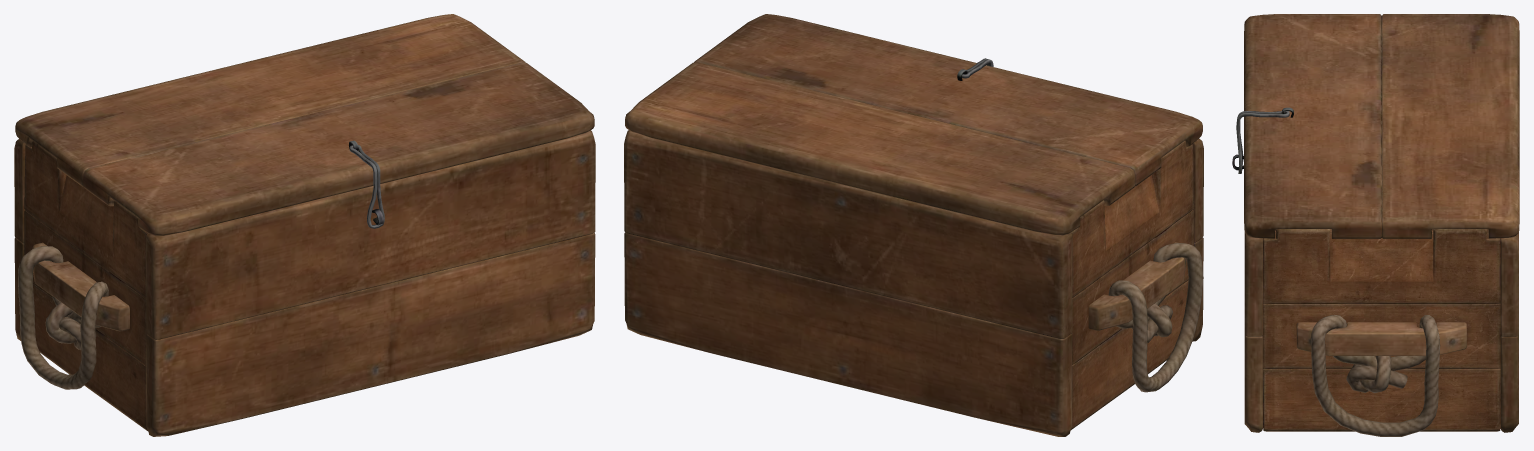
The model's file is wooden_crate_01.glb.
3 views of the same model, side by side, from view 1: azimuth 30°, elevation 25°; view 2: azimuth 150°, elevation 25°; view 3: azimuth 270°, elevation 25° (orthographic). The views are drawn at different scales.
Visible parts, largest first — view 1: wooden_crate_01, wooden_crate_01_lid, wooden_crate_01_latch; view 2: wooden_crate_01, wooden_crate_01_lid; view 3: wooden_crate_01_lid, wooden_crate_01, wooden_crate_01_latch.
Part boxes in pixels (x1,y1,x2,y2): wooden_crate_01: [14, 130, 595, 436]; wooden_crate_01_lid: [15, 14, 594, 236]; wooden_crate_01_latch: [349, 145, 384, 228]; wooden_crate_01: [624, 130, 1203, 436]; wooden_crate_01_lid: [625, 14, 1202, 235]; wooden_crate_01_lid: [1244, 14, 1519, 238]; wooden_crate_01: [1232, 154, 1518, 436]; wooden_crate_01_latch: [1236, 111, 1289, 173].
Bounding box in the file's own units: 0.8253 × 0.3496 × 0.409.
1 material, 1 textured.
